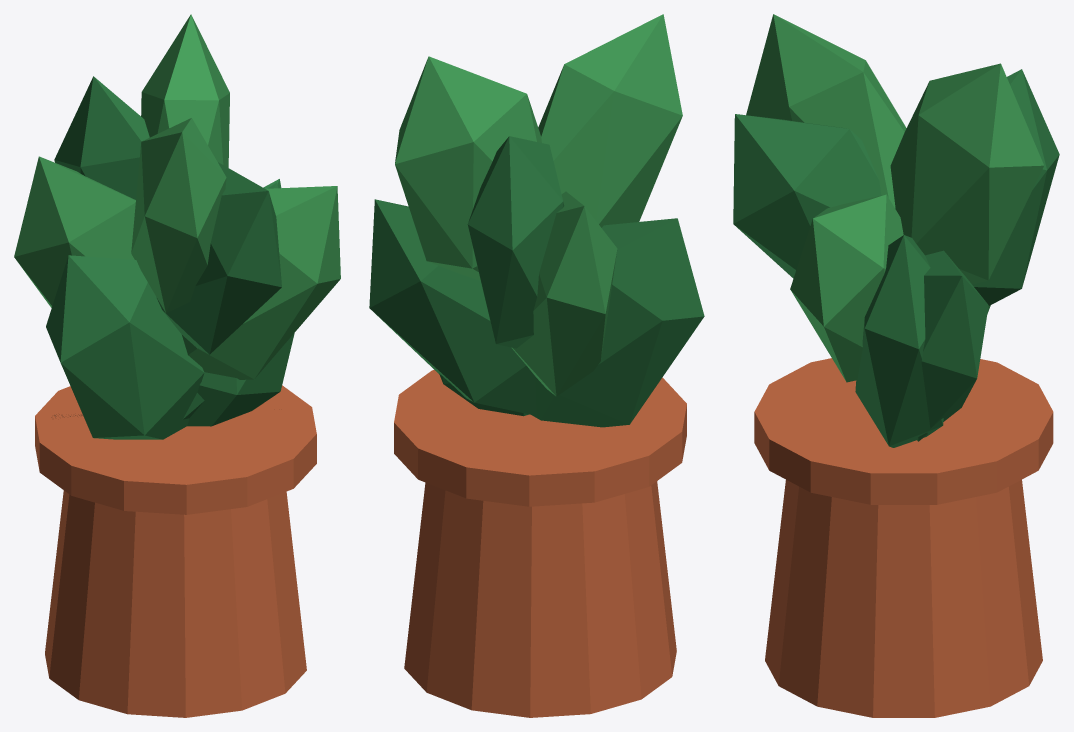
Rendered from plant.glb.
The picture shows the model from 3 angles, left to right: view 1: azimuth 30°, elevation 25°; view 2: azimuth 150°, elevation 25°; view 3: azimuth 270°, elevation 25°; orthographic projection. The views are drawn at different scales.
Parts seen in each view (by area): view 1: Plant; view 2: Plant; view 3: Plant.
Boxes of the visible parts, bbox=[...] form: Plant: bbox=[14, 14, 340, 717]; Plant: bbox=[369, 14, 704, 717]; Plant: bbox=[733, 14, 1059, 717].
Bounding box in the file's own units: 0.4756 × 0.9976 × 0.4695.
